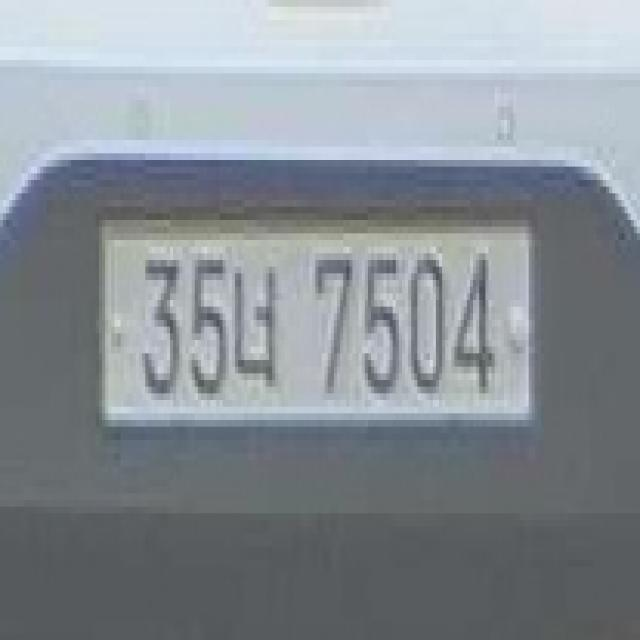0: (405, 247, 445, 393)
3: (142, 253, 182, 400)
4: (448, 254, 495, 394)
5: (362, 247, 402, 400), (188, 247, 228, 393)
7: (312, 247, 356, 400)
license_plate: (96, 200, 538, 440)
neo: (232, 260, 281, 393)
